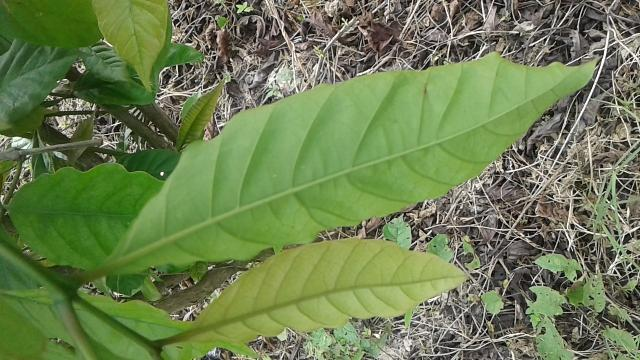healthy: (110, 56, 590, 270)
